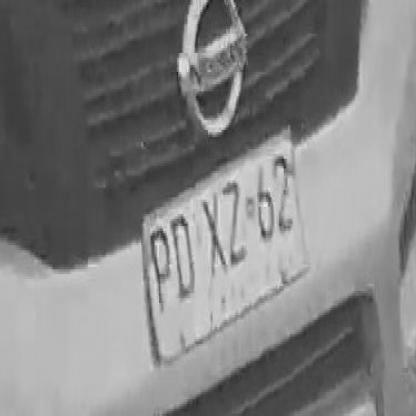Patente: (139, 123, 307, 379)
